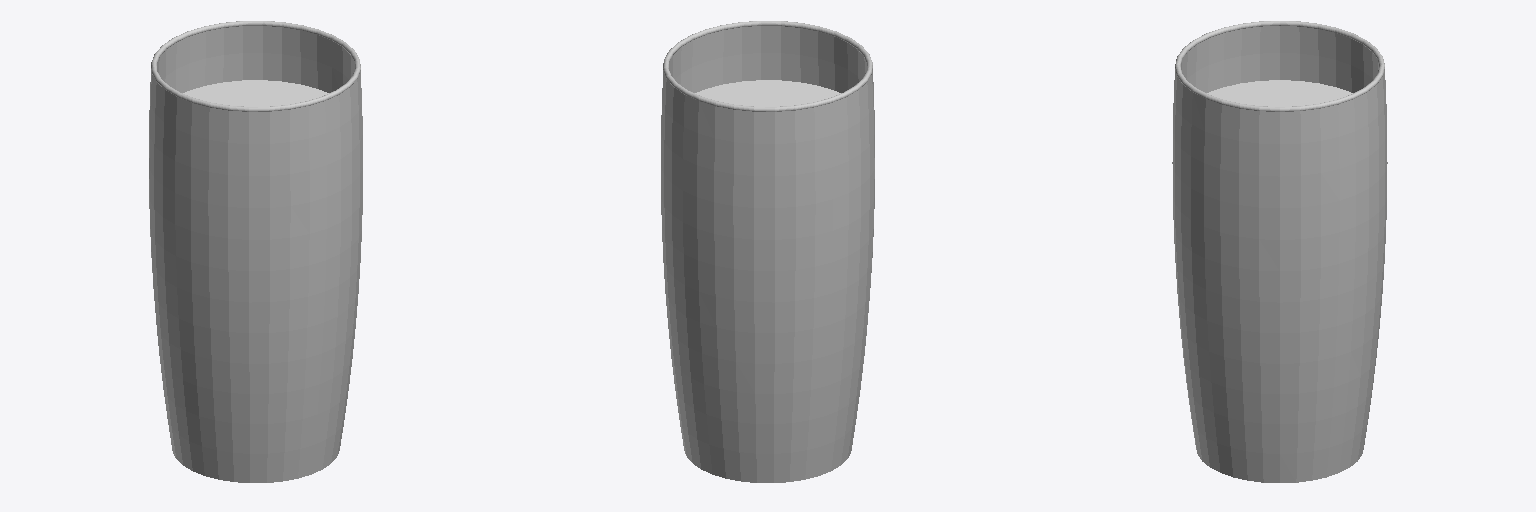
File: milk_glass.obj
3 renders of one model, left to right at view 1: azimuth 30°, elevation 25°; view 2: azimuth 150°, elevation 25°; view 3: azimuth 270°, elevation 25°, orthographic.
Parts seen in each view (by area): view 1: Mesh2 Group3 Group1 Glass_of_Milk1 Model, Mesh1 Group2 Group1 Glass_of_Milk1 Model; view 2: Mesh2 Group3 Group1 Glass_of_Milk1 Model, Mesh1 Group2 Group1 Glass_of_Milk1 Model; view 3: Mesh2 Group3 Group1 Glass_of_Milk1 Model, Mesh1 Group2 Group1 Glass_of_Milk1 Model.
Part boxes in pixels (left/top/right/bottom): Mesh2 Group3 Group1 Glass_of_Milk1 Model: left=149, top=21, right=362, bottom=482; Mesh1 Group2 Group1 Glass_of_Milk1 Model: left=183, top=80, right=328, bottom=106; Mesh2 Group3 Group1 Glass_of_Milk1 Model: left=661, top=21, right=874, bottom=482; Mesh1 Group2 Group1 Glass_of_Milk1 Model: left=695, top=80, right=840, bottom=106; Mesh2 Group3 Group1 Glass_of_Milk1 Model: left=1172, top=21, right=1387, bottom=482; Mesh1 Group2 Group1 Glass_of_Milk1 Model: left=1207, top=80, right=1352, bottom=106.
Bounding box in the file's own units: 2.56 × 5.05 × 2.56.